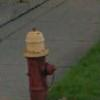Hydrant: (17, 20, 61, 100)
